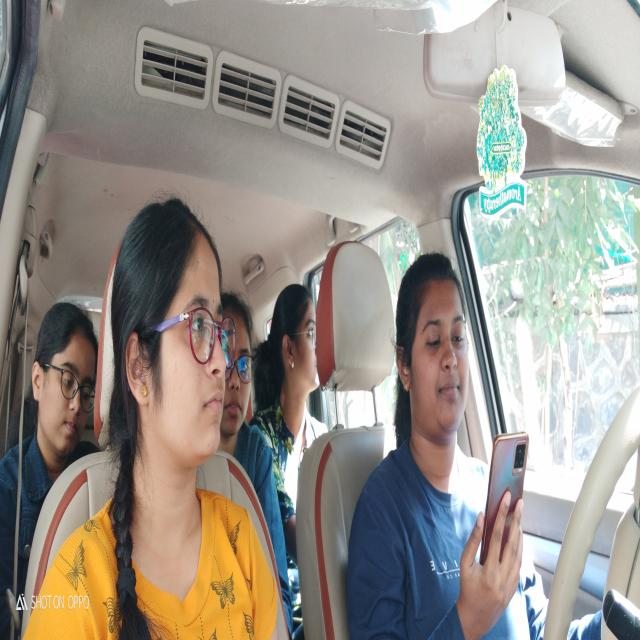mobile: (479, 420, 532, 577)
person: (111, 201, 225, 464), (392, 248, 472, 442), (34, 297, 98, 462), (269, 285, 325, 400), (222, 286, 258, 448)
